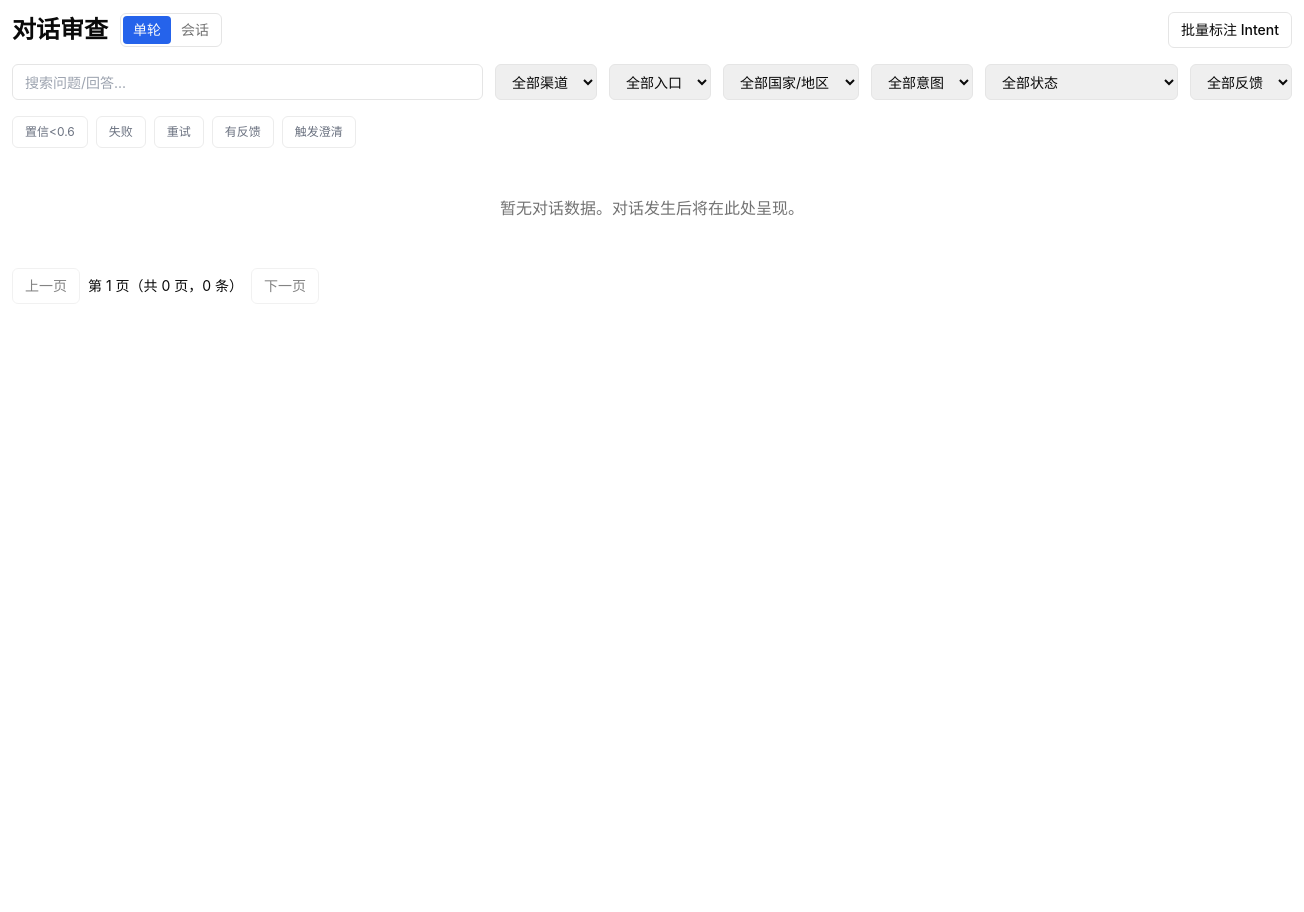
Conversation Review 会话模式(#87) › 点击线程打开 transcript-first 详情;查看 Trace 复用既有诊断数据面
This screenshot has width=1304, height=912.
Click the button "会话": [195, 30] box top-left (171, 16), bottom-right (219, 44)
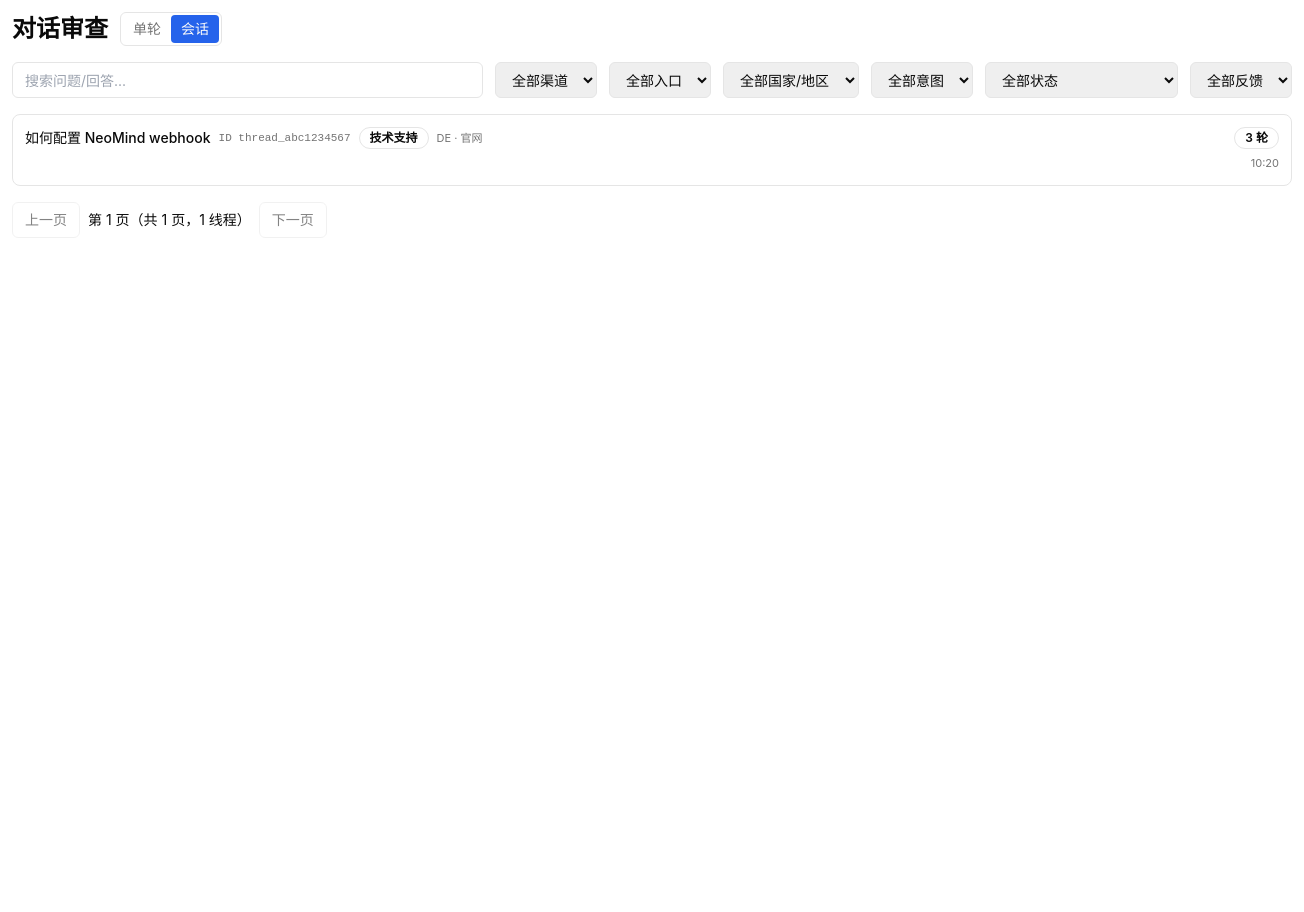
Expected: the element that starts with "如何配置 NeoMind webhook" is shown, top-left (12, 114), bottom-right (1292, 186)
Click the text "如何配置 NeoMind webhook": [118, 138] box top-left (25, 128), bottom-right (210, 148)
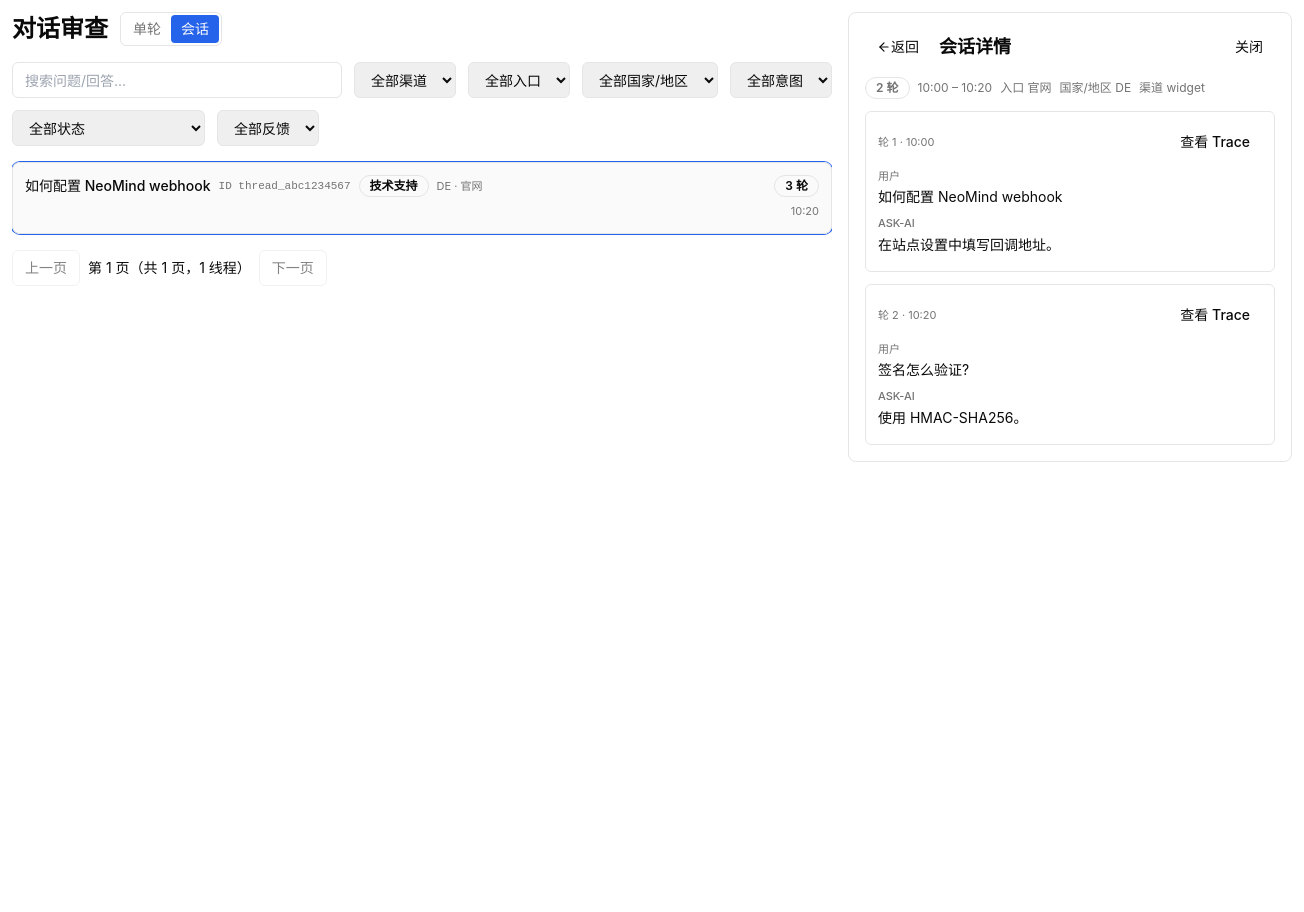
Expected: the element that starts with "会话详情" is shown, top-left (848, 12), bottom-right (1292, 462)
Expected: the text "签名怎么验证?" is shown, top-left (878, 360), bottom-right (969, 378)
Click the 1st button "查看 Trace": [1215, 142] box top-left (1168, 124), bottom-right (1262, 160)
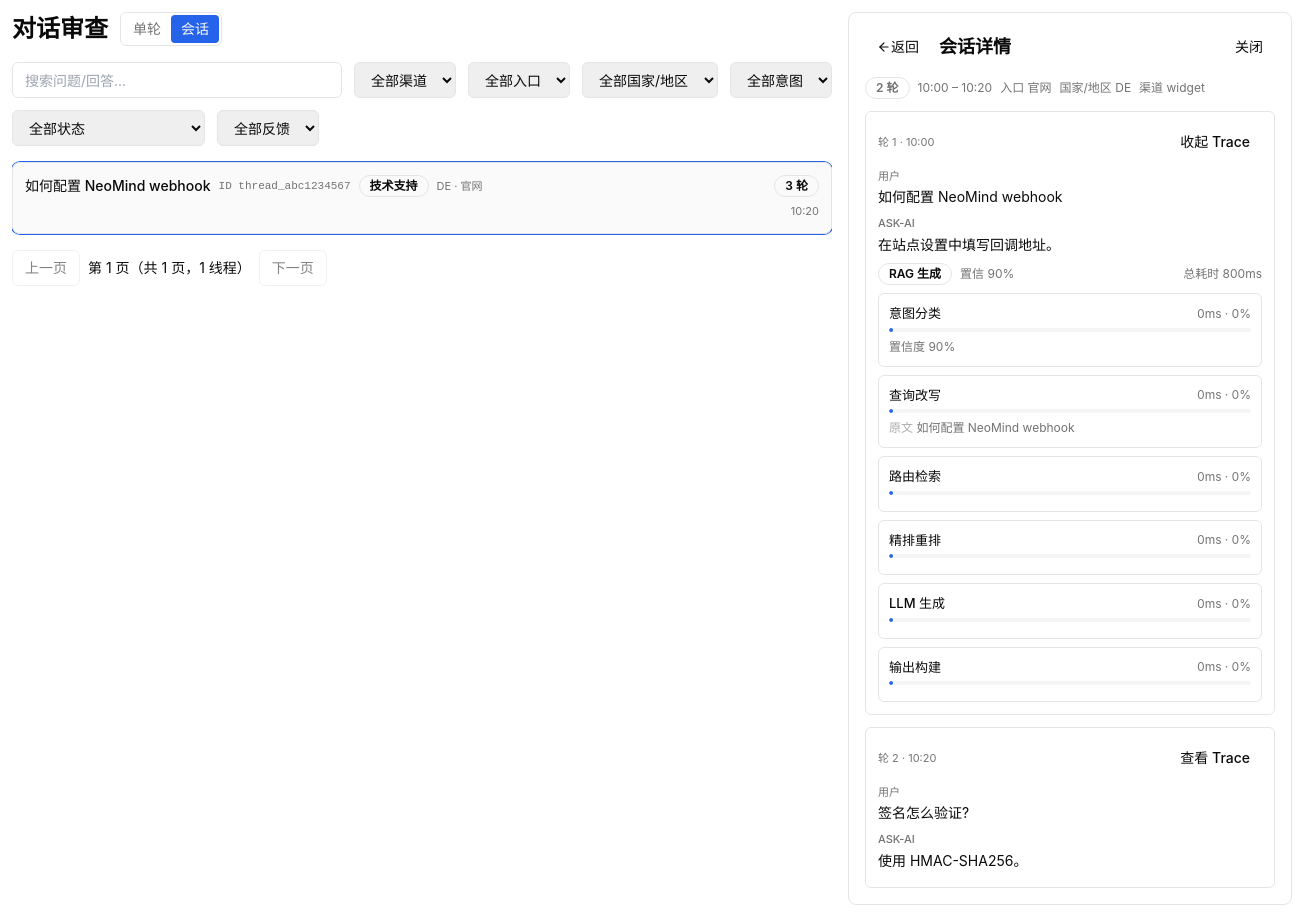
Expected: the element that starts with "RAG 生成" is shown, top-left (878, 263), bottom-right (1262, 702)
